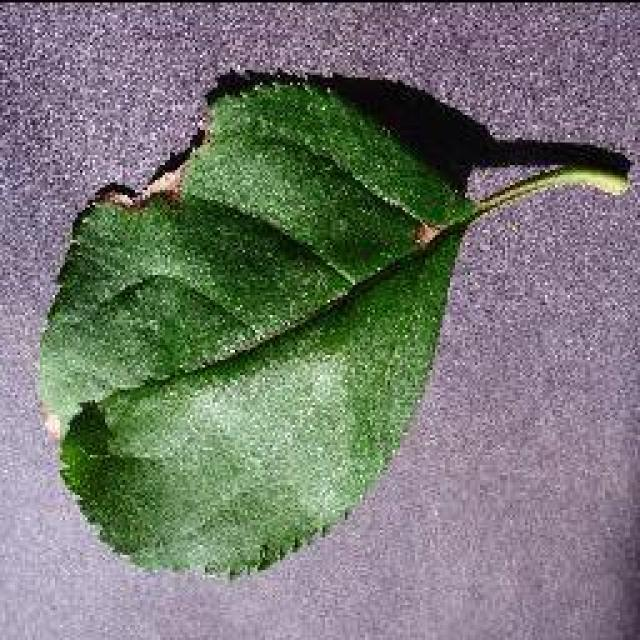apple healthy: (32, 62, 632, 580)
